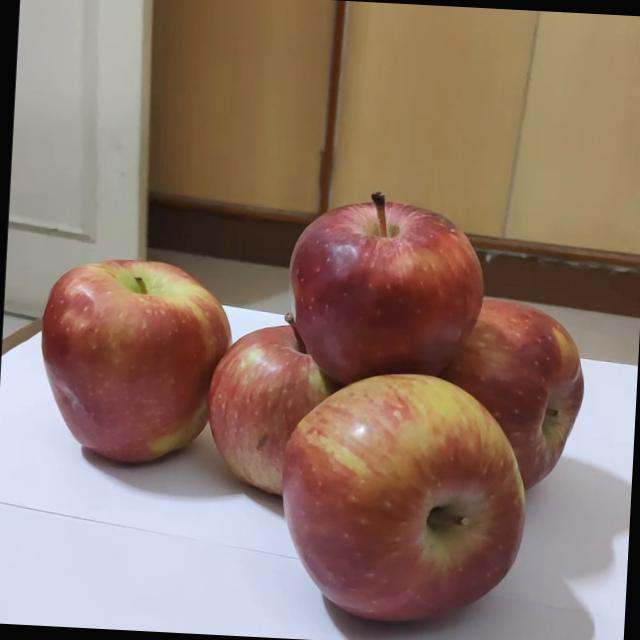apple: (255, 355, 558, 640), (268, 182, 502, 396), (384, 292, 593, 504)
